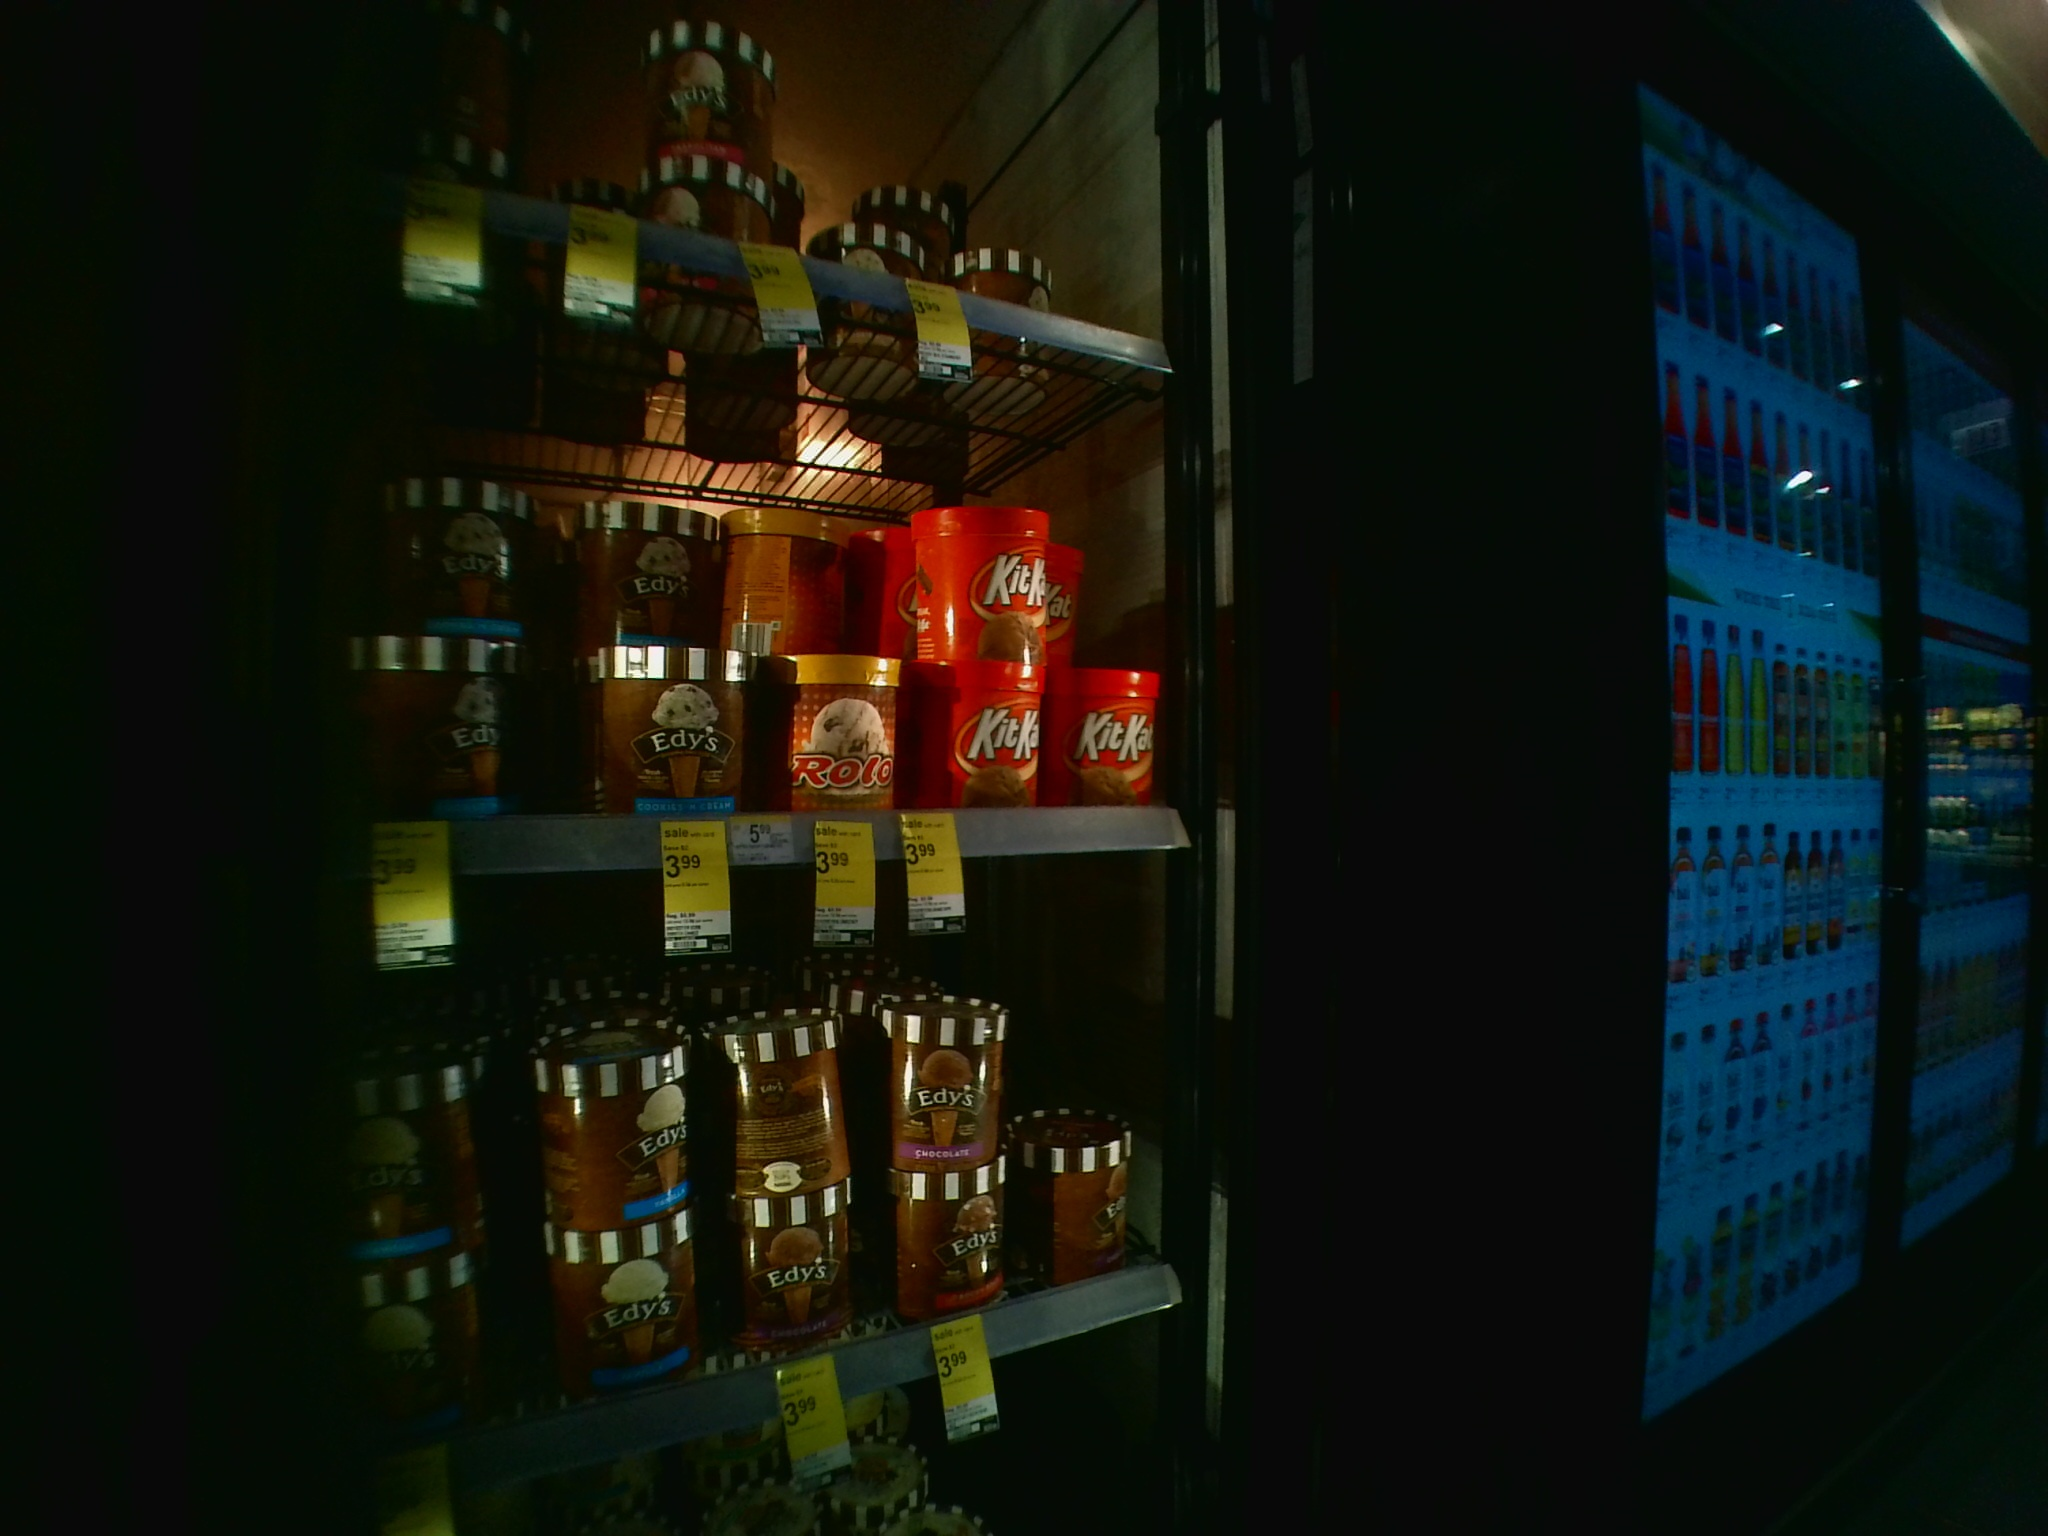shelf: (316, 871, 1192, 1425), (326, 374, 1192, 857)
